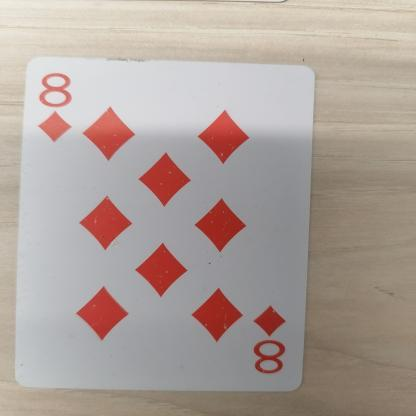8D: (25, 59, 93, 150), (240, 293, 298, 383)
